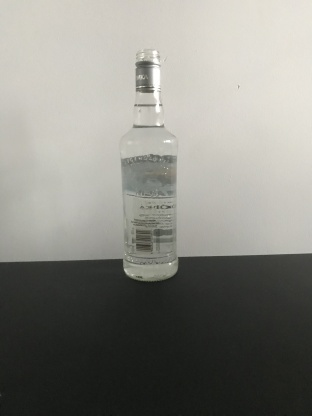nakretka: (133, 48, 162, 93)
